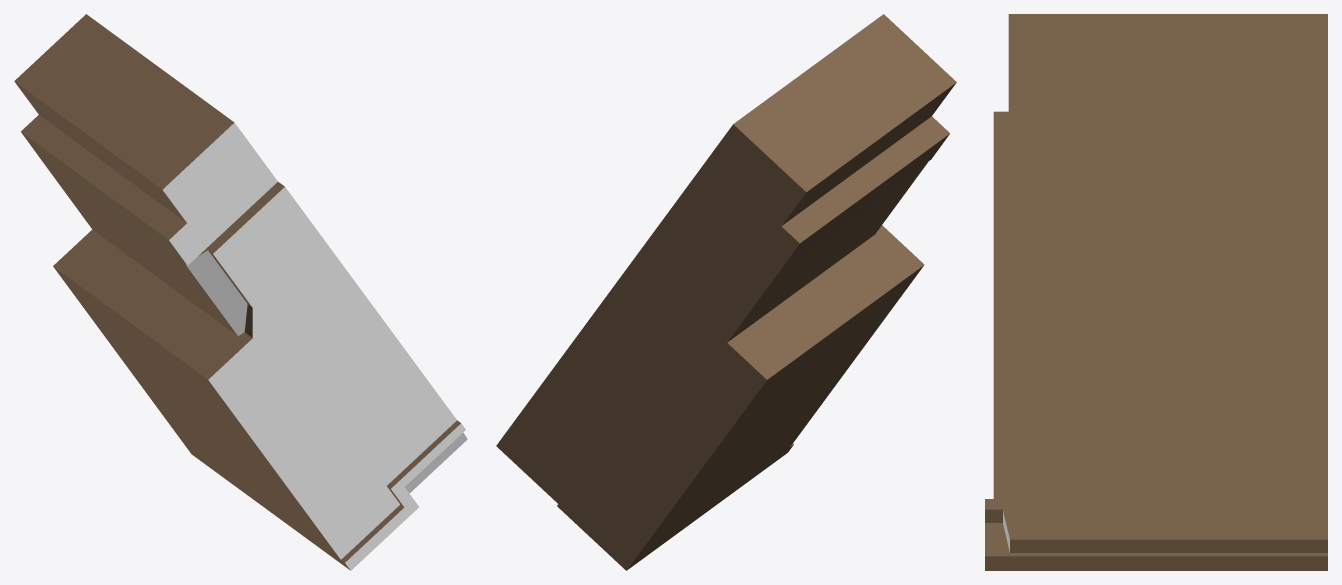
3 views of the same model, side by side, from view 1: azimuth 30°, elevation 25°; view 2: azimuth 150°, elevation 25°; view 3: azimuth 270°, elevation 25° (orthographic). The views are drawn at different scales.
Visible parts, largest first — view 1: City_1885513; view 2: City_1885513; view 3: City_1885513.
Boxes of the visible parts, bbox=[...] form: City_1885513: bbox=[14, 14, 467, 570]; City_1885513: bbox=[496, 14, 956, 570]; City_1885513: bbox=[985, 14, 1327, 570].
Bounding box in the file's own units: 1496 × 2178 × 1350.
